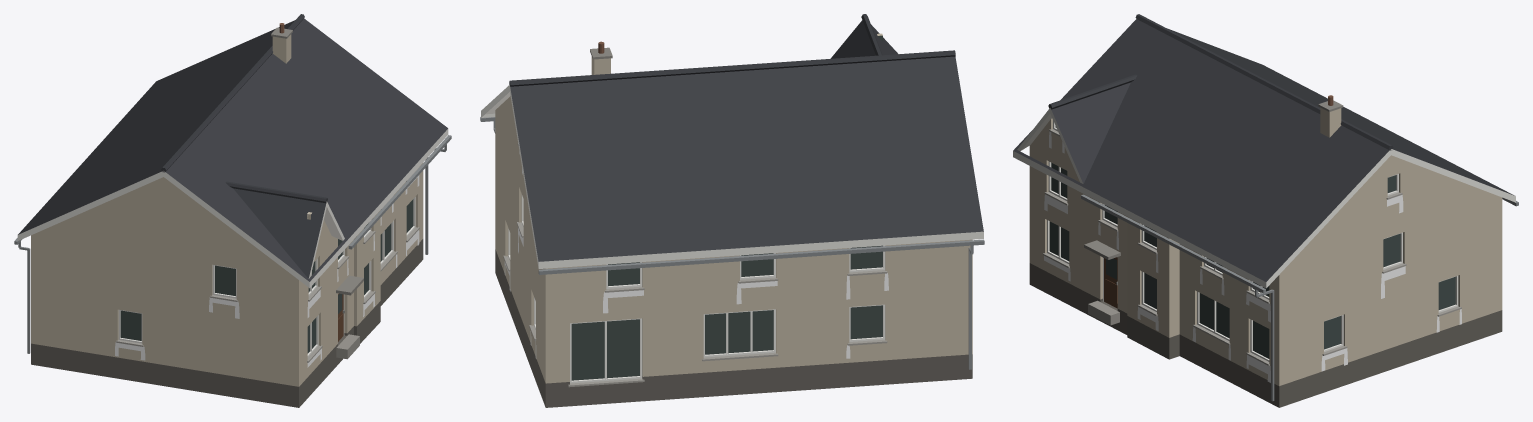
Rendered from vh_pale_gable.glb.
3 views of the same model, side by side, from view 1: azimuth 30°, elevation 25°; view 2: azimuth 150°, elevation 25°; view 3: azimuth 270°, elevation 25° (orthographic). The views are drawn at different scales.
Parts seen in each view (by area): view 1: vh_roof, vh_brick, vh_trim, vh_frames_small, vh_glass, vh_stone, vh_streaks_small; view 2: vh_roof, vh_brick, vh_trim, vh_glass, vh_frames_small, vh_stone, vh_streaks_small; view 3: vh_roof, vh_brick, vh_trim, vh_glass, vh_frames_small, vh_stone, vh_streaks_small.
Part boxes in pixels (x1,y1,x2,y2): vh_roof: [18, 14, 447, 281]; vh_brick: [31, 34, 423, 386]; vh_trim: [17, 129, 448, 407]; vh_frames_small: [14, 135, 451, 357]; vh_glass: [120, 199, 413, 353]; vh_stone: [116, 23, 419, 362]; vh_streaks_small: [115, 175, 419, 367]; vh_roof: [509, 14, 983, 261]; vh_brick: [495, 33, 972, 383]; vh_trim: [481, 85, 983, 407]; vh_glass: [571, 35, 882, 380]; vh_frames_small: [480, 117, 984, 383]; vh_stone: [503, 41, 887, 387]; vh_streaks_small: [504, 151, 888, 358]; vh_roof: [1013, 14, 1514, 281]; vh_brick: [1029, 107, 1502, 386]; vh_trim: [1013, 108, 1515, 407]; vh_glass: [1049, 126, 1455, 358]; vh_frames_small: [1047, 120, 1518, 401]; vh_stone: [1043, 95, 1461, 365]; vh_streaks_small: [1044, 131, 1461, 382].
Size of the model in its own units: 18.98 by 10.21 by 18.5.
